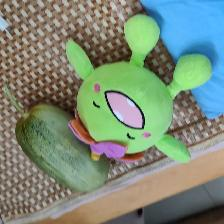gua: (26, 116, 84, 180)
